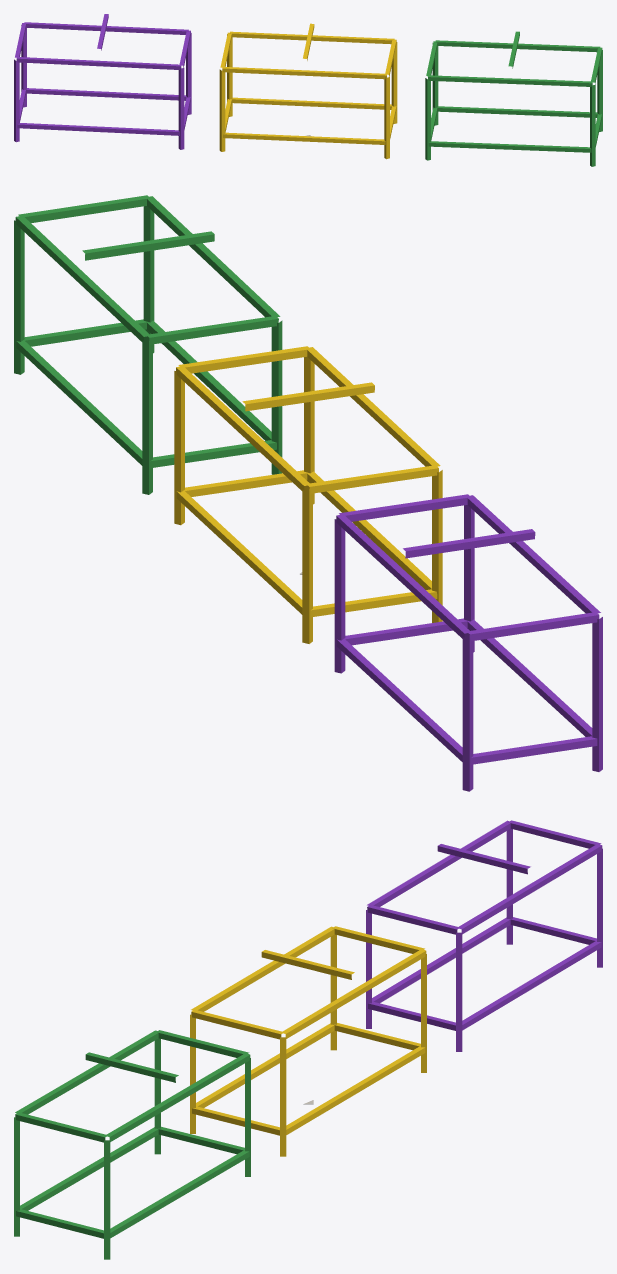
The model's file is ora_traincars.glb.
3 renders of one model, top to bottom at view 1: azimuth 30°, elevation 25°; view 2: azimuth 150°, elevation 25°; view 3: azimuth 270°, elevation 25°, orthographic. The views are drawn at different scales.
Visible parts, largest first — view 1: ora_traincars_lod0; view 2: ora_traincars_lod0; view 3: ora_traincars_lod0.
Boxes of the visible parts, x1=… form: ora_traincars_lod0: x1=14, y1=14, x2=602, y2=166; ora_traincars_lod0: x1=14, y1=195, x2=602, y2=791; ora_traincars_lod0: x1=14, y1=820, x2=602, y2=1259.
Size of what is drawn, in the model's own units: 15 by 3.2 by 11.65.
